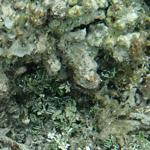dead: (3, 3, 147, 148)
